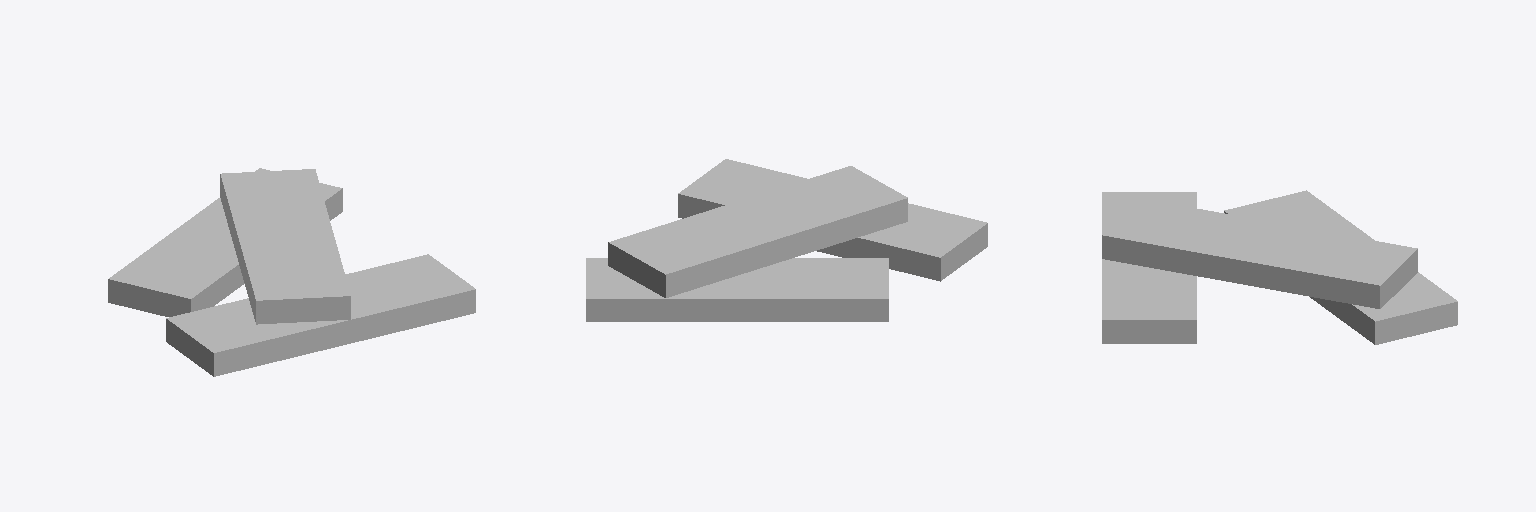
The model's file is debrisWood.obj.
3 renders of one model, left to right at view 1: azimuth 30°, elevation 25°; view 2: azimuth 150°, elevation 25°; view 3: azimuth 270°, elevation 25°, orthographic.
Visible parts, largest first — view 1: debrisWood; view 2: debrisWood; view 3: debrisWood.
Boxes of the visible parts, <box> form: debrisWood: <box>108,168,475,376</box>; debrisWood: <box>586,159,987,321</box>; debrisWood: <box>1102,190,1457,344</box>.
Size of the model in its own units: 0.4669 by 0.0787 by 0.5364.